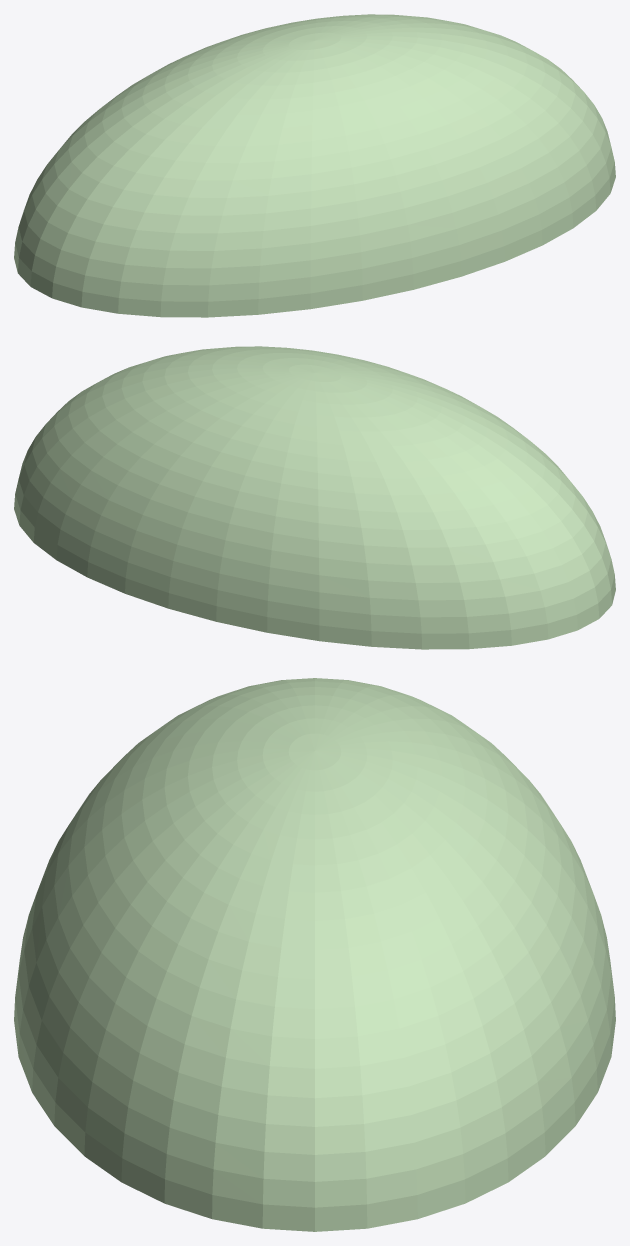
The model's file is cell.obj.
3 renders of one model, top to bottom at view 1: azimuth 30°, elevation 25°; view 2: azimuth 150°, elevation 25°; view 3: azimuth 270°, elevation 25°, orthographic. The views are drawn at different scales.
Parts seen in each view (by area): view 1: group_0_13165757; view 2: group_0_13165757; view 3: group_0_13165757.
Boxes of the visible parts, left/top/right/bottom form: group_0_13165757: left=14, top=14, right=615, bottom=317; group_0_13165757: left=14, top=346, right=615, bottom=649; group_0_13165757: left=14, top=678, right=615, bottom=1231.
Size of the model in its own units: 138 by 41 by 83.
